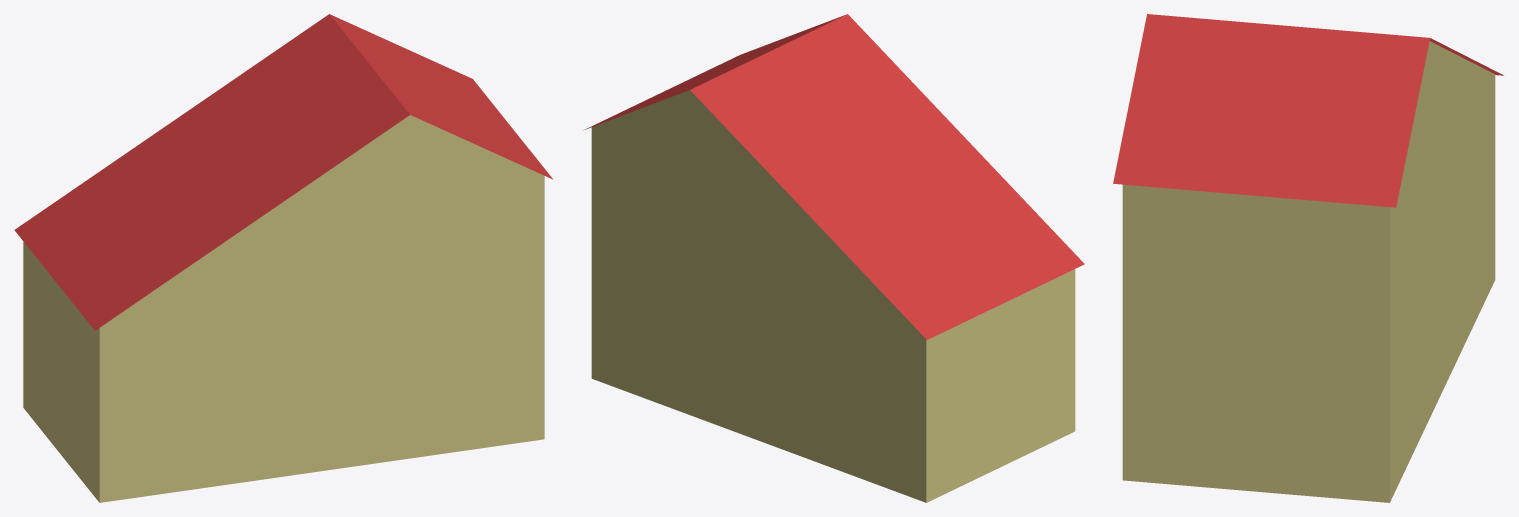
The picture shows the model from 3 angles, left to right: view 1: azimuth 30°, elevation 25°; view 2: azimuth 150°, elevation 25°; view 3: azimuth 270°, elevation 25°; orthographic projection. The views are drawn at different scales.
Size of the model in its own units: 18.44 by 12.04 by 13.46.
